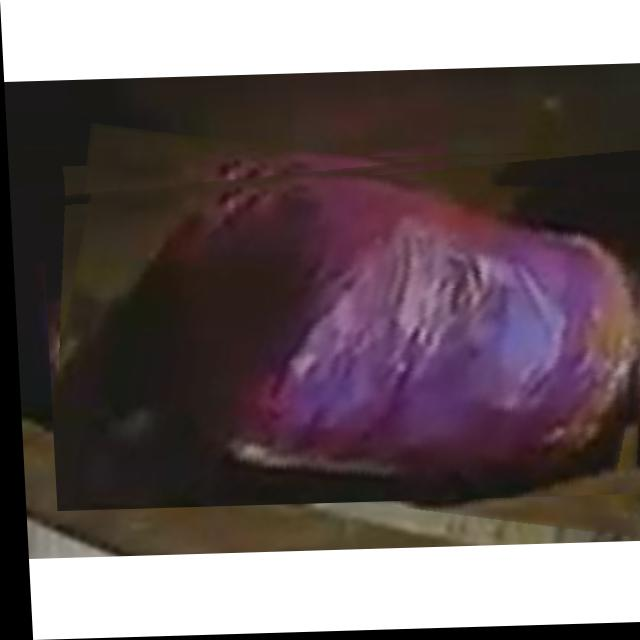other_trashbag: (48, 169, 640, 507)
